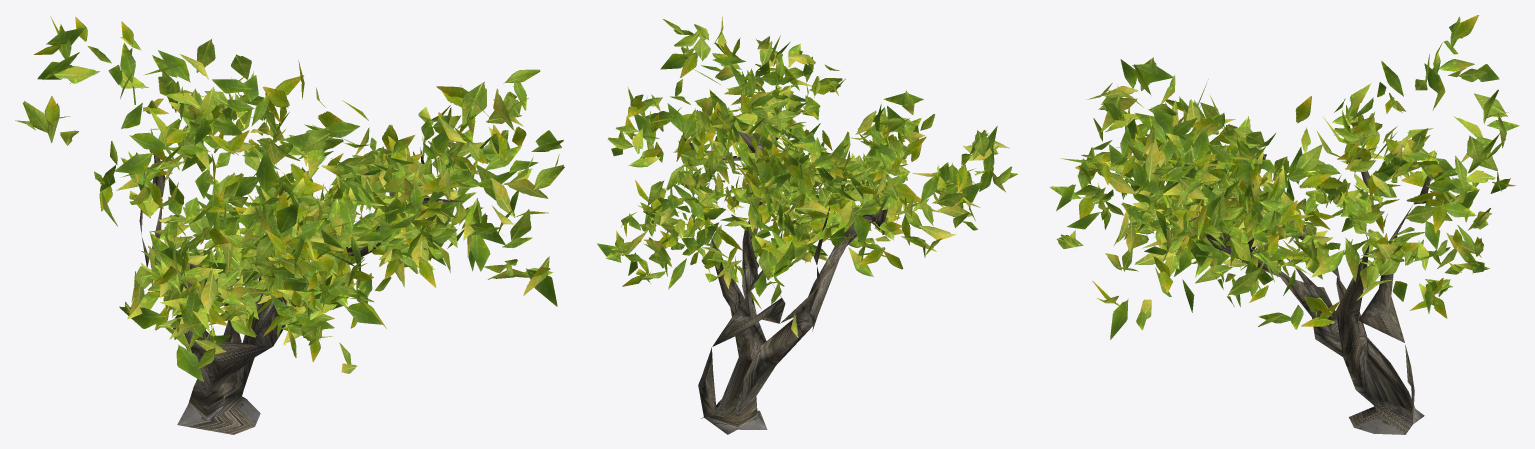
File: coastal-grove.glb
3 renders of one model, left to right at view 1: azimuth 30°, elevation 25°; view 2: azimuth 150°, elevation 25°; view 3: azimuth 270°, elevation 25°, orthographic. The views are drawn at different scales.
Size of the model in its own units: 3.87 by 3.48 by 4.18.
Materials: 2 (2 with a texture image).
